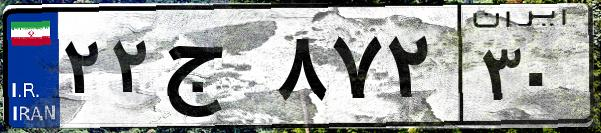0: (525, 38, 570, 115)
2: (385, 28, 445, 110), (57, 26, 110, 100), (110, 28, 158, 98)
3: (475, 38, 525, 113)
7: (330, 28, 385, 110)
8: (270, 28, 330, 110)
ج: (158, 20, 270, 120)
